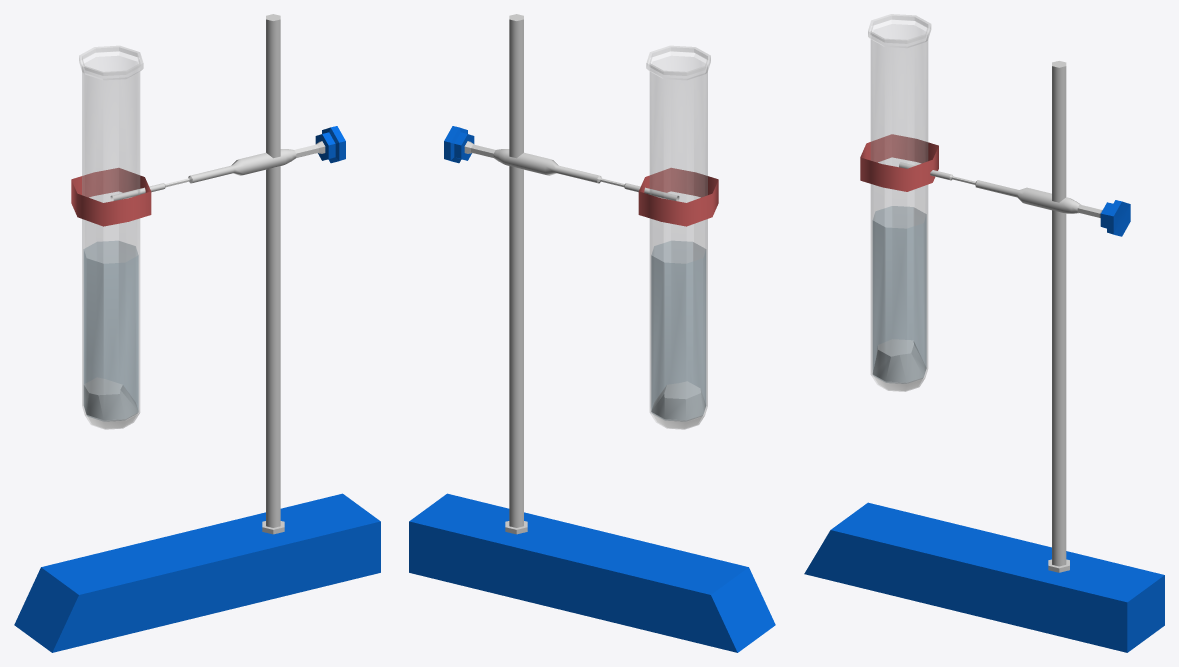
The model's file is common_salt_experiment.fbx.
3 views of the same model, side by side, from view 1: azimuth 30°, elevation 25°; view 2: azimuth 150°, elevation 25°; view 3: azimuth 330°, elevation 25° (orthographic).
Visible parts, largest first — view 1: pCube1, polySurface33, polySurface34, pCylinder1, polySurface2, pCylinder2, water1; view 2: pCube1, polySurface33, polySurface34, pCylinder1, polySurface2, pCylinder2, water1; view 3: pCube1, polySurface33, polySurface34, pCylinder1, polySurface2, pCylinder2, water1.
Part boxes in pixels (x1=…): pCube1: x1=14, y1=493, x2=380, y2=652; polySurface33: x1=79, y1=46, x2=143, y2=429; polySurface34: x1=83, y1=241, x2=138, y2=421; pCylinder1: x1=262, y1=14, x2=284, y2=534; polySurface2: x1=71, y1=168, x2=151, y2=226; pCylinder2: x1=110, y1=126, x2=345, y2=201; water1: x1=84, y1=377, x2=138, y2=428; pCube1: x1=409, y1=493, x2=775, y2=652; polySurface33: x1=646, y1=46, x2=710, y2=429; polySurface34: x1=651, y1=241, x2=706, y2=421; pCylinder1: x1=505, y1=14, x2=527, y2=534; polySurface2: x1=638, y1=168, x2=718, y2=226; pCylinder2: x1=444, y1=126, x2=679, y2=201; water1: x1=651, y1=381, x2=705, y2=428; pCube1: x1=804, y1=502, x2=1164, y2=652; polySurface33: x1=868, y1=14, x2=930, y2=391; polySurface34: x1=872, y1=206, x2=926, y2=383; pCylinder1: x1=1048, y1=61, x2=1069, y2=572; polySurface2: x1=860, y1=134, x2=938, y2=191; pCylinder2: x1=899, y1=162, x2=1130, y2=236; water1: x1=873, y1=339, x2=926, y2=390.
Size of the model in its own units: 43.24 by 70.76 by 8.67.
